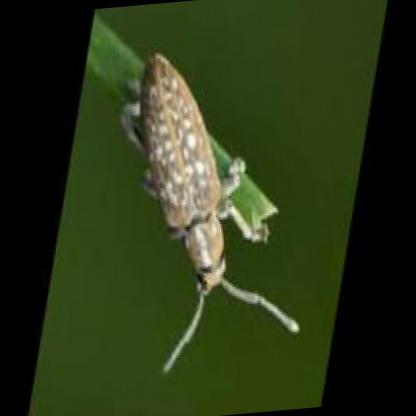ash weevil: (119, 52, 298, 372)
